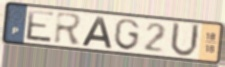2: (143, 22, 168, 54)
A: (80, 15, 113, 50)
E: (25, 8, 57, 44)
G: (113, 17, 141, 52)
R: (53, 11, 84, 46)
U: (168, 20, 201, 59)
